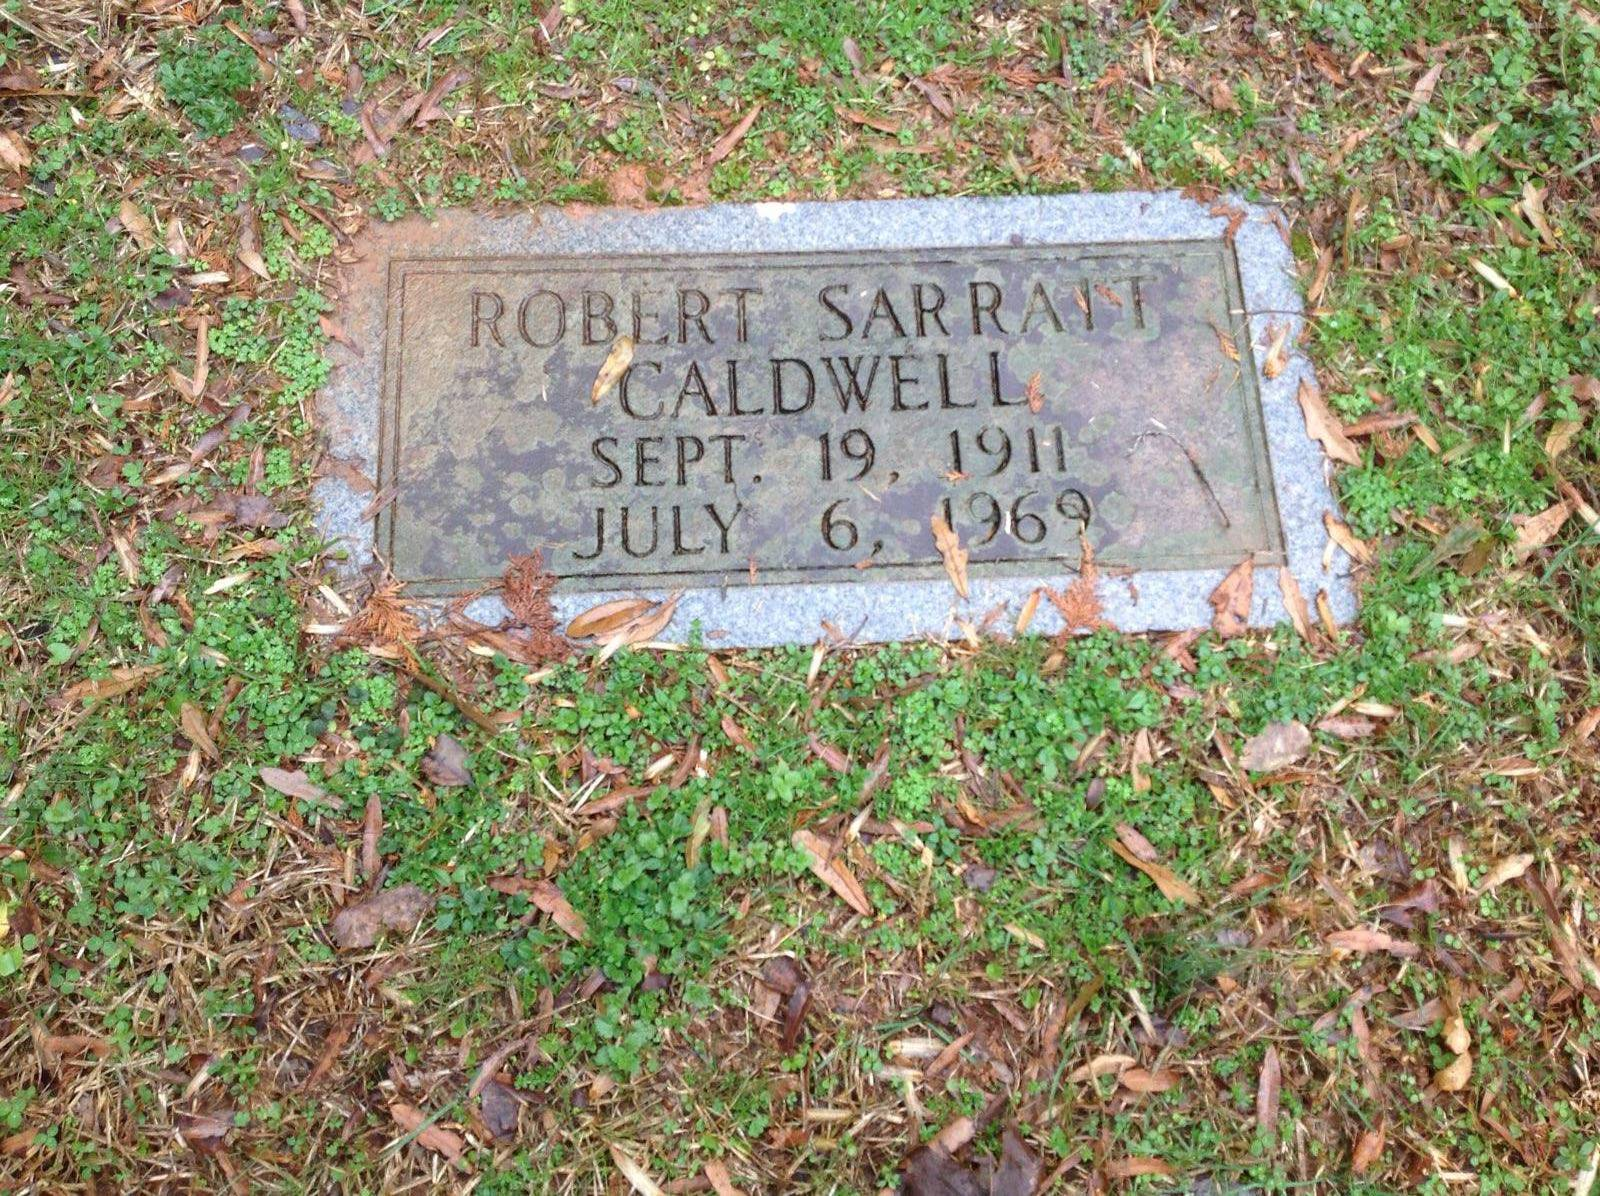flat: (280, 176, 1369, 660)
